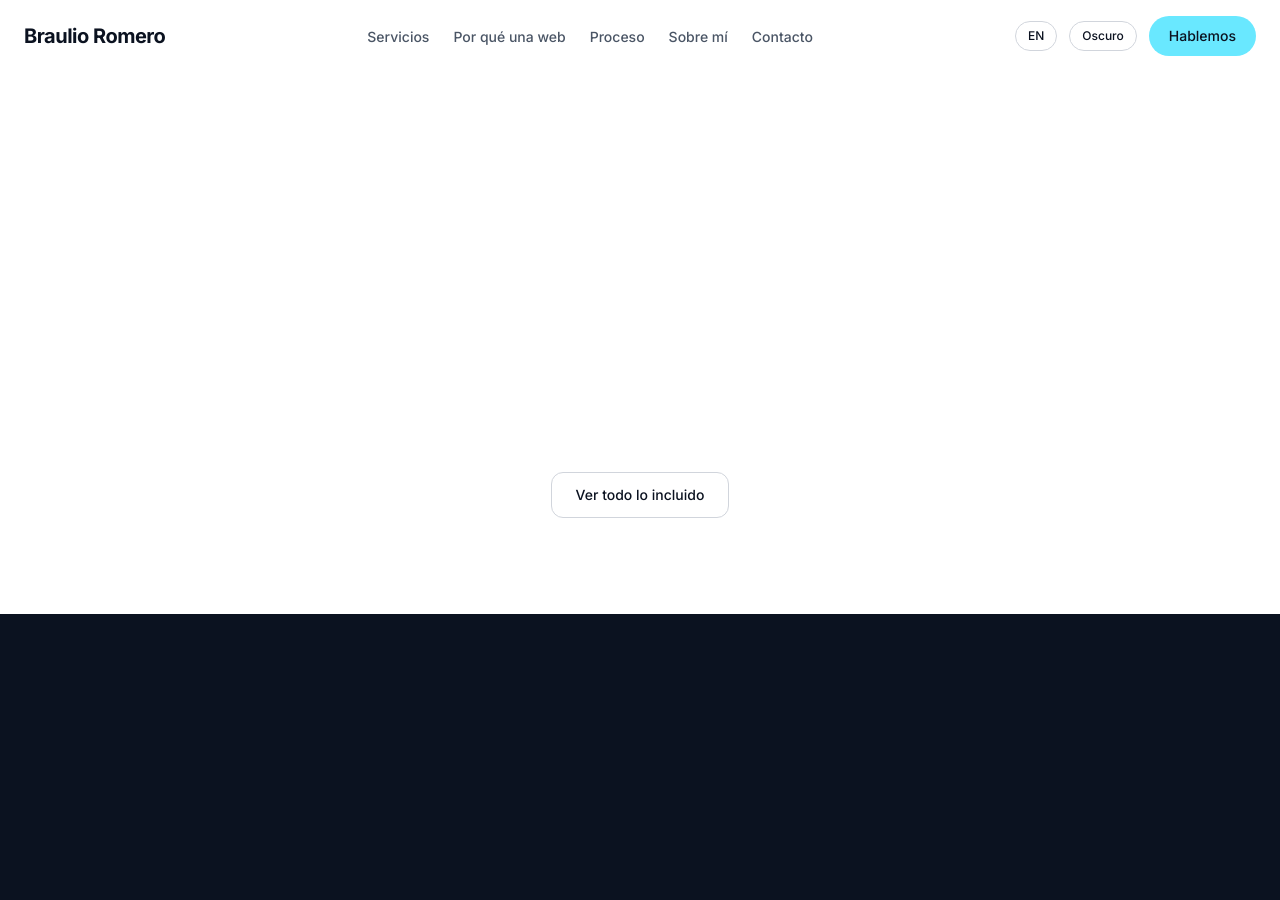
Test case: ServicesPageClient › toggles the comparison table from the pricing section
(page scrolled)
Click the button "Ver todo lo incluido" at (640, 495), box [551,472,729,518]
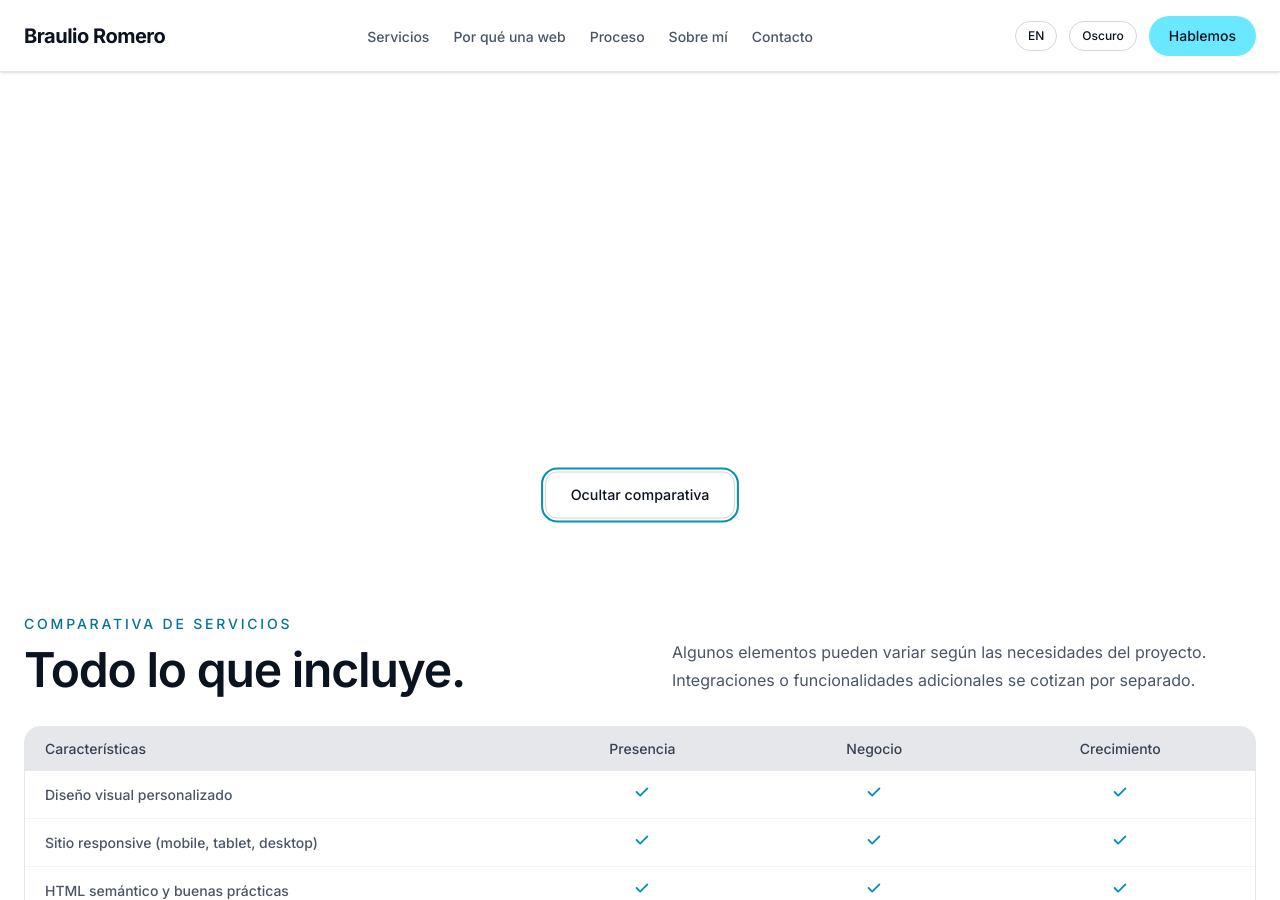
Now the button "Ocultar comparativa" is expanded, box [545,472,735,518]
